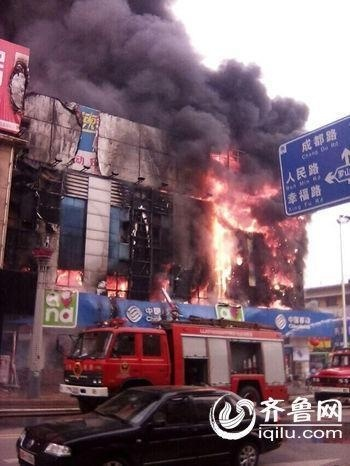fire: (196, 153, 302, 305)
